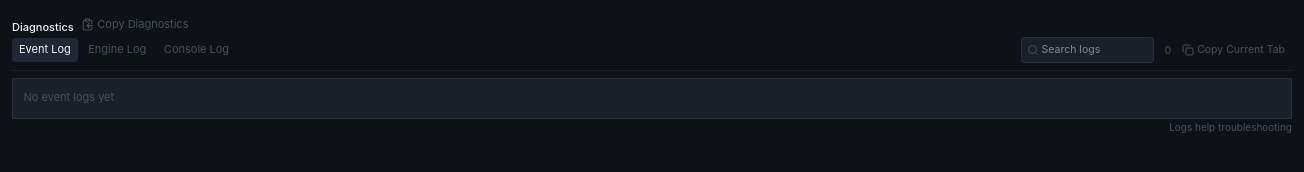
Scenario: DiagnosticsModal 组件 › 切到引擎日志标签页 → readServeLog(500) 拉取并渲染
Click the button with class "diag-tab" showing "Engine Log" at (117,50), box [81, 38, 153, 62]
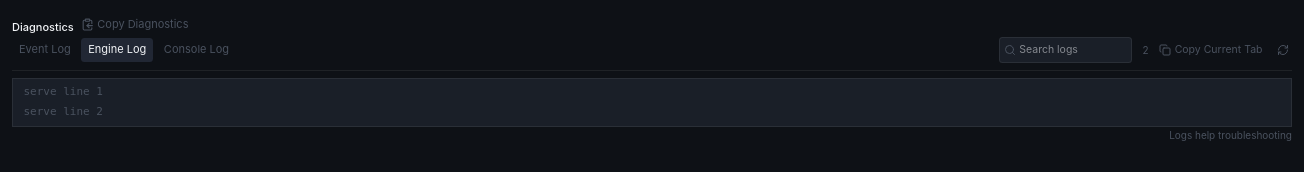
Now the text "serve line 1" is shown, box [24, 85, 103, 98]
Now the text "serve line 2" is shown, box [24, 105, 103, 118]
